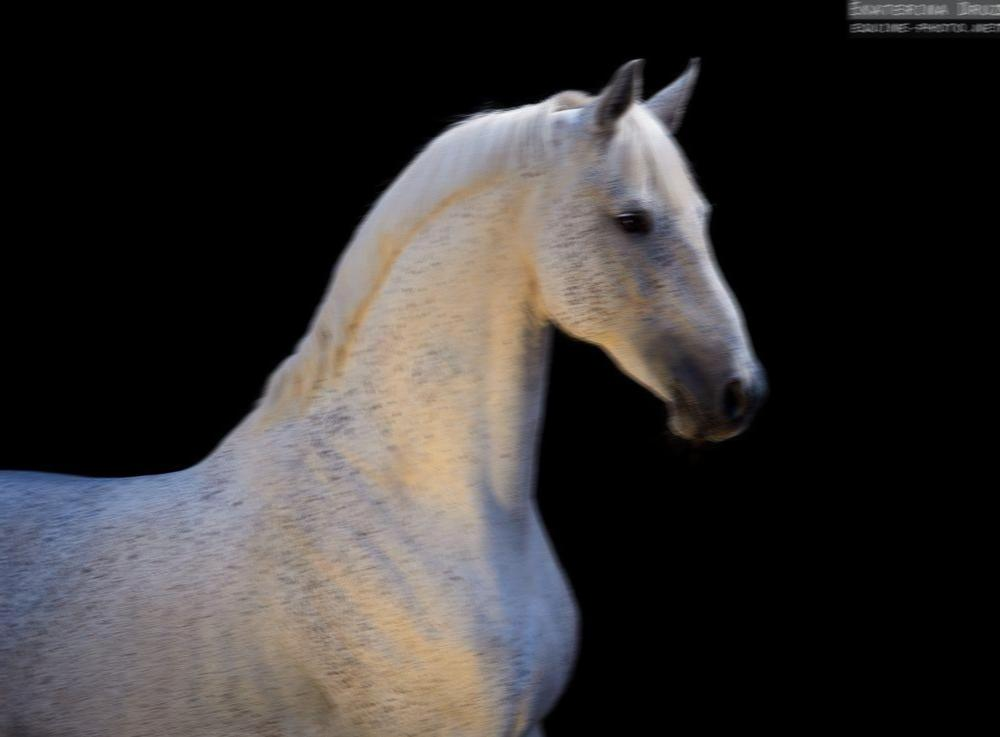horse: (0, 54, 767, 736)
